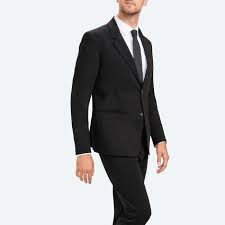F_M_suit jacket: (65, 15, 172, 160)
F_dress pants: (94, 138, 153, 225)
